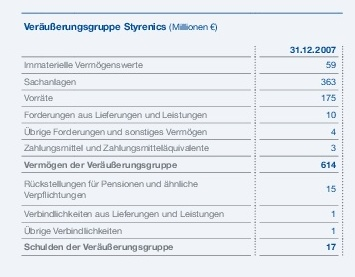table: (0, 0, 355, 277)
